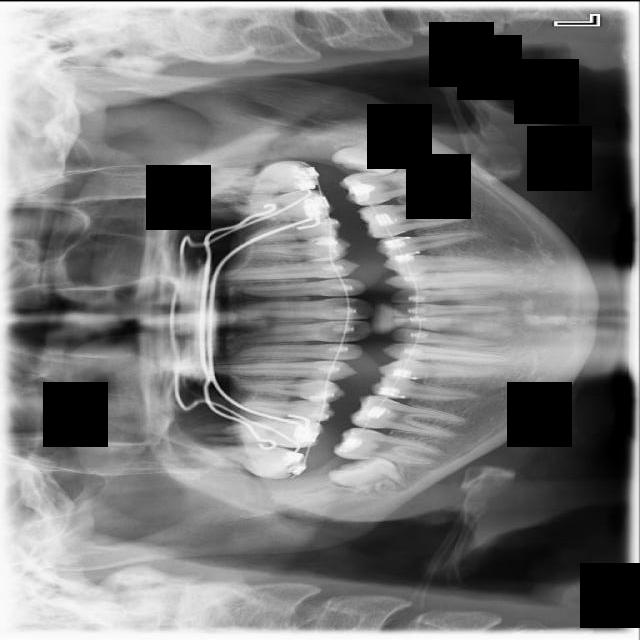52: (329, 413, 383, 469), (339, 169, 393, 207)
73: (581, 32, 591, 42)
BioHorizons Implant: (200, 158, 317, 198)
Biomet 3i Implant: (329, 131, 411, 180)
Blue Sky Bio Implant: (339, 167, 452, 207)
Caries: (188, 438, 304, 481)
Implant: (332, 425, 441, 466)
Keystone Dental Implant: (326, 440, 415, 508)
